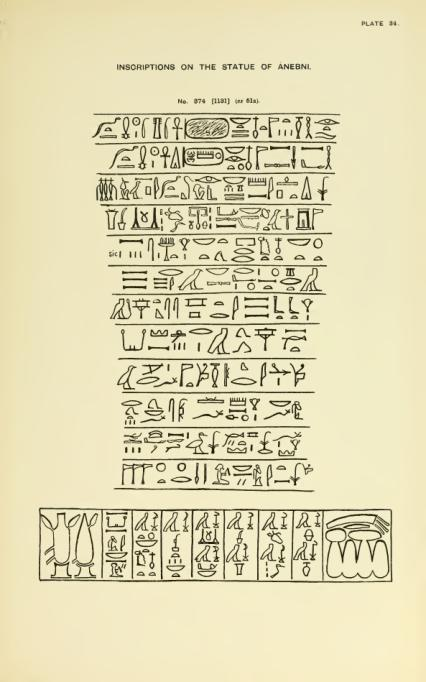circle: (181, 114, 230, 142), (180, 146, 226, 168)
